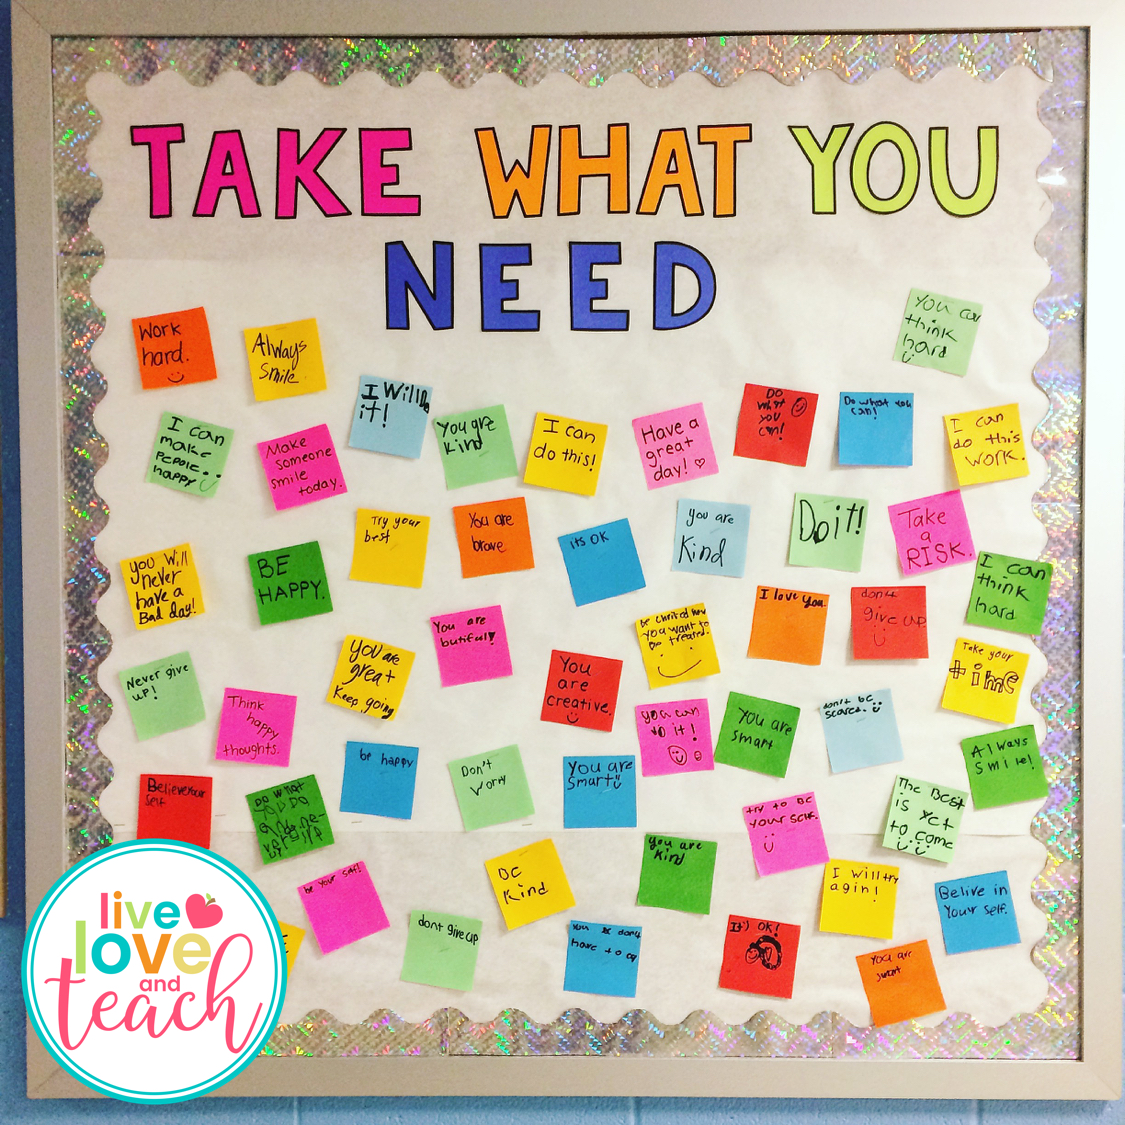stickynote: (815, 679, 914, 776), (740, 786, 841, 881), (938, 394, 1034, 490), (889, 282, 985, 378), (555, 514, 653, 608), (710, 687, 803, 786), (877, 773, 973, 866), (716, 907, 808, 1004), (936, 635, 1034, 726), (128, 298, 220, 394), (325, 627, 416, 724), (962, 546, 1054, 643), (886, 485, 980, 578), (729, 378, 823, 470), (243, 774, 333, 869), (241, 535, 336, 624), (630, 398, 720, 492), (738, 581, 833, 670), (534, 647, 627, 737), (449, 491, 542, 581), (450, 744, 540, 837), (484, 837, 577, 926), (633, 603, 725, 691), (432, 401, 523, 489), (634, 826, 719, 921), (782, 485, 871, 576), (524, 407, 608, 503), (146, 412, 236, 501), (399, 908, 488, 996), (929, 868, 1020, 956), (955, 721, 1050, 805), (346, 503, 436, 589), (346, 373, 434, 460), (256, 424, 346, 509), (299, 863, 390, 947), (425, 604, 514, 689), (117, 653, 208, 737), (834, 387, 921, 474), (558, 916, 646, 1001), (860, 938, 949, 1022), (847, 579, 932, 666), (817, 851, 901, 939), (632, 694, 717, 779), (668, 495, 753, 578), (123, 546, 207, 629), (337, 738, 420, 822), (214, 683, 295, 769), (560, 751, 642, 834), (243, 316, 325, 398), (138, 768, 211, 846)
